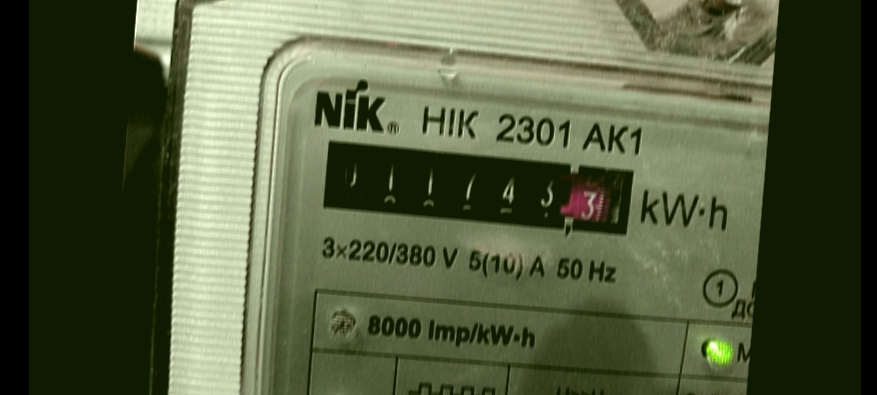0: (342, 154, 364, 192)
1: (424, 162, 442, 197), (388, 159, 400, 193)
3: (538, 175, 560, 211), (581, 190, 601, 225)
4: (501, 172, 521, 207)
7: (462, 167, 483, 203)
screen: (310, 129, 650, 250)
